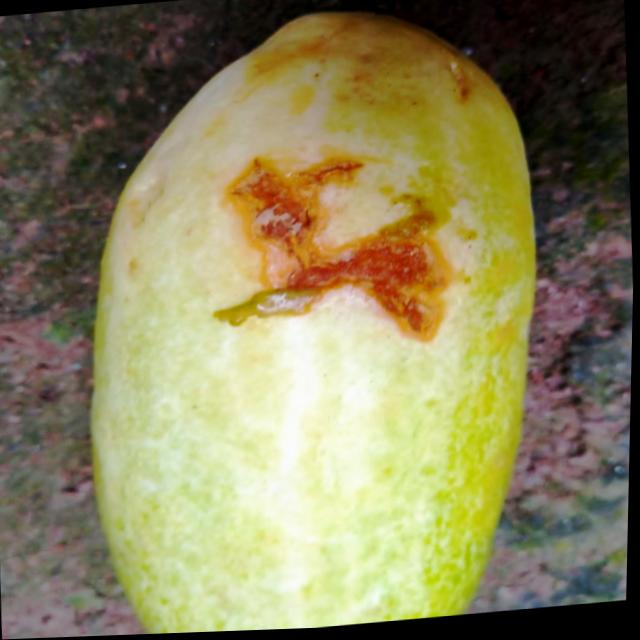Belly-Rot: (207, 139, 476, 374)
